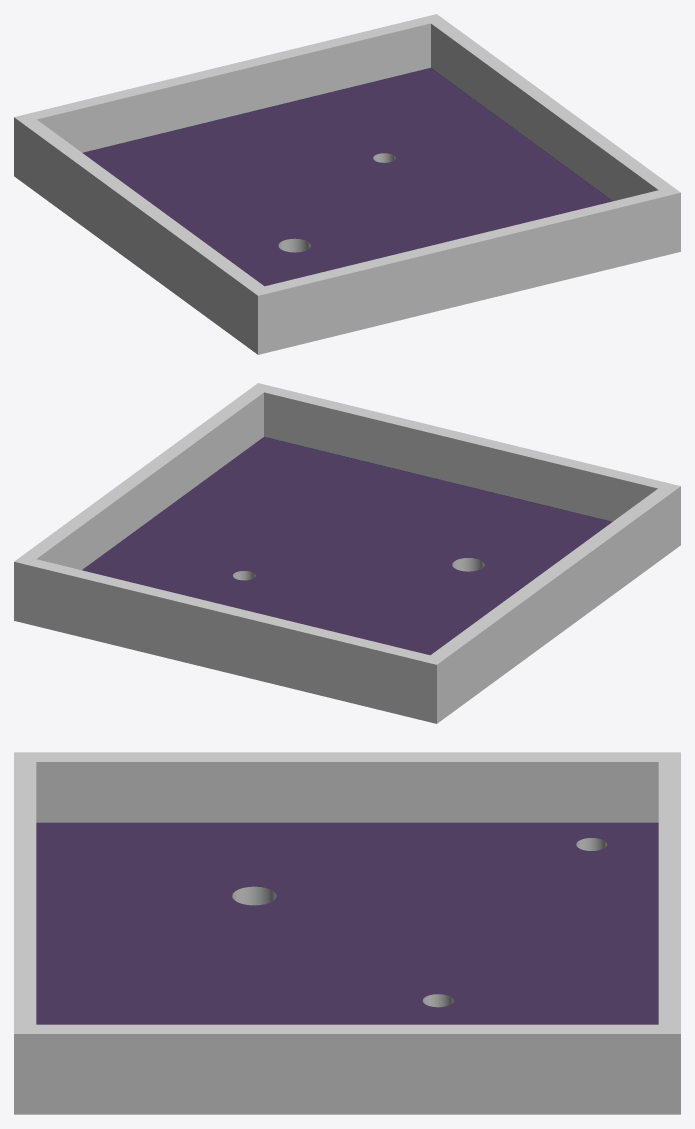
The model's file is maze3.2.fbx.
The picture shows the model from 3 angles, top to bottom: view 1: azimuth 30°, elevation 25°; view 2: azimuth 150°, elevation 25°; view 3: azimuth 270°, elevation 25°; orthographic projection. The views are drawn at different scales.
Visible parts, largest first — view 1: Model; view 2: Model; view 3: Model.
Part boxes in pixels (x1,y1,x2,y2): Model: (14, 14, 680, 354); Model: (14, 383, 680, 723); Model: (14, 752, 680, 1114).
Bounding box in the file's own units: 3600 × 486 × 3600.
